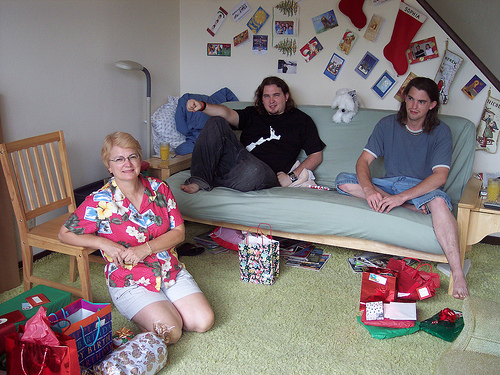without_mask: (402, 83, 438, 124), (105, 142, 142, 181), (258, 81, 290, 115)
